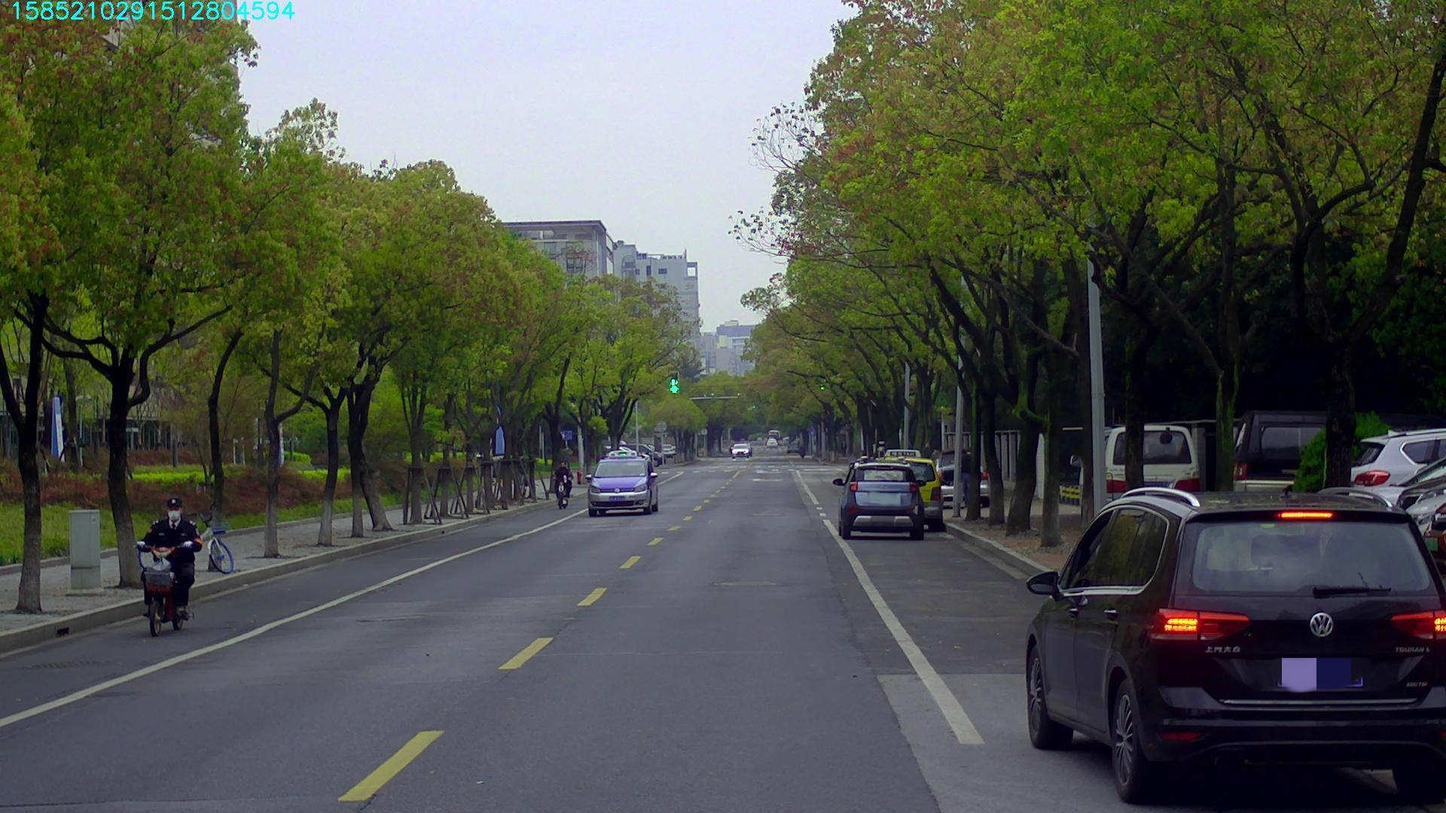green: (670, 370, 679, 394)
